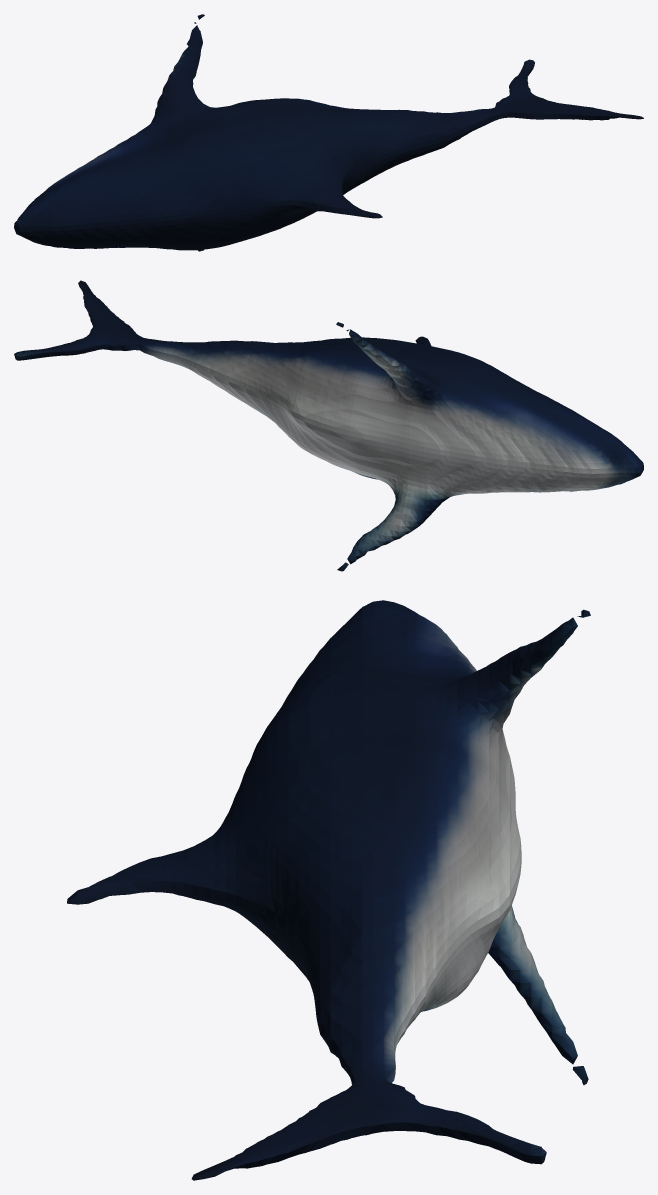
File: example.obj
3 renders of one model, top to bottom at view 1: azimuth 30°, elevation 25°; view 2: azimuth 150°, elevation 25°; view 3: azimuth 270°, elevation 25°, orthographic. The views are drawn at different scales.
Bounding box in the file's own units: 1.98 × 0.7665 × 0.7707.
